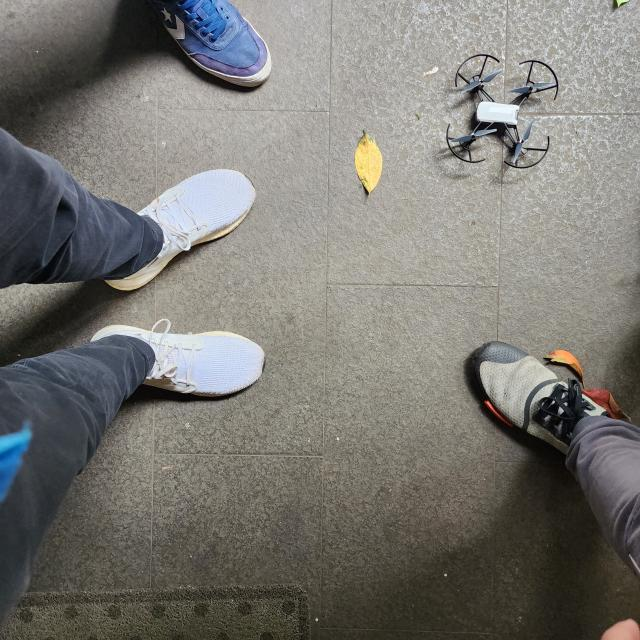drone: (446, 54, 559, 169)
